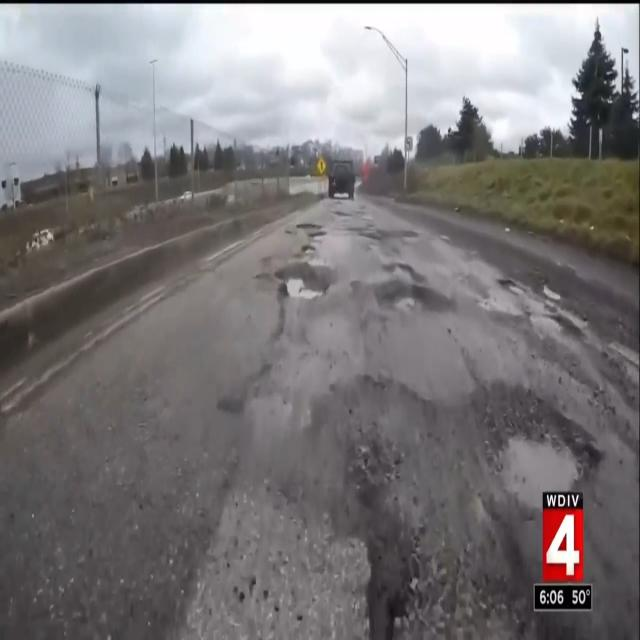Potholes: (359, 387, 582, 639)
pothole: (297, 199, 419, 261), (500, 436, 580, 508), (502, 436, 580, 508), (373, 278, 456, 311), (558, 308, 590, 336), (286, 277, 322, 298), (610, 341, 640, 366), (544, 285, 562, 301)
